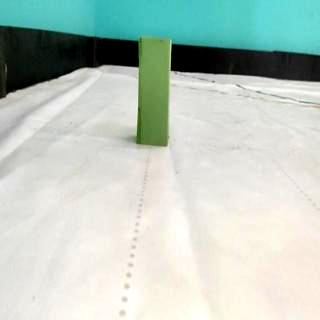greenbox: (136, 36, 172, 146)
